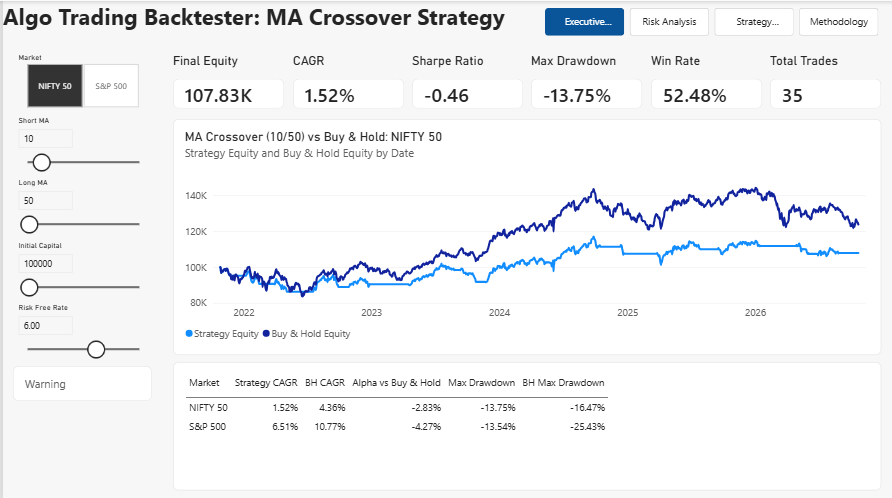

This screenshot's page, from the dashboard's own definition file:
{"tool":"powerbi","page":{"name":"Executive Summary","canvas":[1280,720],"ordinal":0},"visuals":[{"type":"slicer","fields":{"Values":["Short MA.Short MA"]},"box":[15,165,200,80],"z":0},{"type":"slicer","fields":{"Values":["Long MA.Long MA"]},"box":[15,255,200,80],"z":1000},{"type":"slicer","fields":{"Values":["Initial Capital.Initial Capital"]},"box":[15,345,200,80],"z":2000},{"type":"slicer","fields":{"Values":["Risk Free Rate.Risk Free Rate"]},"box":[15,435,200,80],"z":3000},{"type":"cardVisual","title":"Final Equity","fields":{"Data":["_Measures.Strategy Equity"]},"box":[245,75,160,80],"z":4000},{"type":"slicer","fields":{"Values":["DimMarket.Market"]},"box":[15,75,200,80],"z":5000},{"type":"textbox","box":[0,0,750,60],"z":6000},{"type":"cardVisual","title":"Max Drawdown","fields":{"Data":["_Measures.Max Drawdown"]},"box":[761,75,160,80],"z":7000},{"type":"cardVisual","title":"CAGR","fields":{"Data":["_Measures.Strategy CAGR"]},"box":[417,75,160,80],"z":8000},{"type":"lineChart","fields":{"Category":["DimDate.Date"],"Y":["_Measures.Strategy Equity","_Measures.Buy & Hold Equity"]},"box":[245,170,1020,340],"z":9000},{"type":"tableEx","fields":{"Values":["DimMarket.Market","_Measures.Strategy CAGR","_Measures.BH CAGR","_Measures.Alpha vs Buy & Hold","_Measures.Max Drawdown","_Measures.BH Max Drawdown"]},"box":[245,520,1020,185],"z":10000},{"type":"cardVisual","fields":{"Data":["_Measures.Warning"]},"box":[15,525,200,50],"z":11000},{"type":"cardVisual","title":"Sharpe Ratio","fields":{"Data":["_Measures.Sharpe Ratio"]},"box":[589,75,160,80],"z":12000},{"type":"cardVisual","title":"Win Rate ","fields":{"Data":["_Measures.Win Rate (In-Market Days)"]},"box":[933,75,160,80],"z":13000},{"type":"cardVisual","title":"Total Trades","fields":{"Data":["_Measures.Total Trades"]},"box":[1105,75,160,80],"z":14000},{"type":"pageNavigator","box":[780,10,480,40],"z":15000}]}

Visuals, with their boxes in screenshot pixels (x1, y1, x2, y2), scaled from the page's 1280x720 canvas onto the 892x498 screenshot:
slicer - Short MA.Short MA: 10 114 150 169
slicer - Long MA.Long MA: 10 176 150 232
slicer - Initial Capital.Initial Capital: 10 239 150 294
slicer - Risk Free Rate.Risk Free Rate: 10 301 150 356
"Final Equity" cardVisual: 171 52 282 107
slicer - DimMarket.Market: 10 52 150 107
textbox: 0 0 523 42
"Max Drawdown" cardVisual: 530 52 642 107
"CAGR" cardVisual: 291 52 402 107
lineChart - DimDate.Date x _Measures.Strategy Equity: 171 118 882 353
tableEx - DimMarket.Market x _Measures.Strategy CAGR: 171 360 882 488
cardVisual - _Measures.Warning: 10 363 150 398
"Sharpe Ratio" cardVisual: 410 52 522 107
"Win Rate " cardVisual: 650 52 762 107
"Total Trades" cardVisual: 770 52 882 107
pageNavigator: 544 7 878 35
